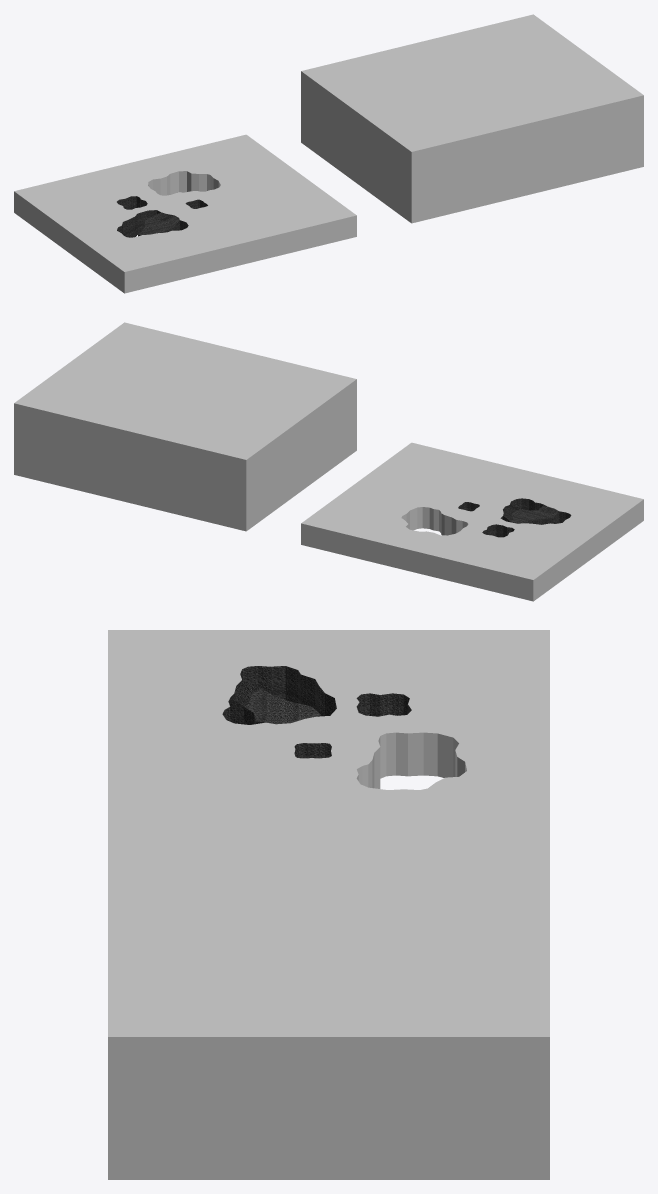
Rendered from Dragonfly_02_MAP01.obj.
The picture shows the model from 3 angles, top to bottom: view 1: azimuth 30°, elevation 25°; view 2: azimuth 150°, elevation 25°; view 3: azimuth 270°, elevation 25°; orthographic projection. The views are drawn at different scales.
Visible parts, largest first — view 1: MAP01; view 2: MAP01; view 3: MAP01.
Part boxes in pixels (bbox=[...]): MAP01: bbox=[14, 14, 643, 293]; MAP01: bbox=[14, 322, 643, 601]; MAP01: bbox=[108, 630, 549, 1179].
Size of the model in its own units: 152 by 20 by 56.
